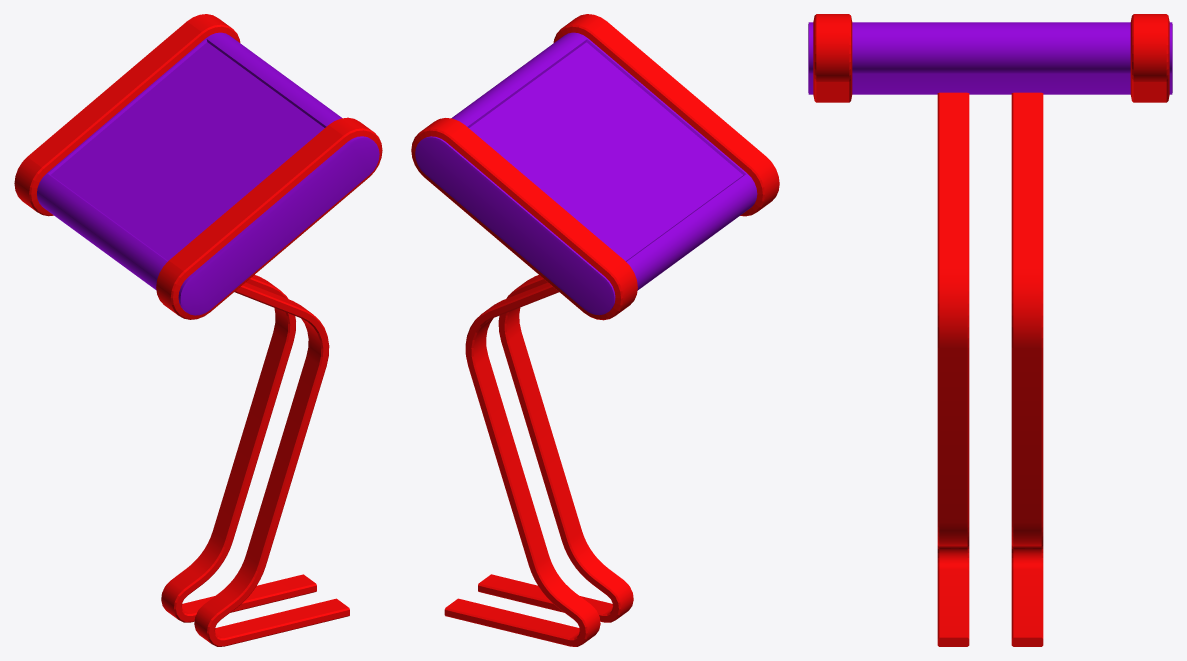
File: screenStand.FBX
3 views of the same model, side by side, from view 1: azimuth 30°, elevation 25°; view 2: azimuth 150°, elevation 25°; view 3: azimuth 270°, elevation 25° (orthographic). The views are drawn at different scales.
Visible parts, largest first — view 1: ScreenStand; view 2: ScreenStand; view 3: ScreenStand.
Boxes of the visible parts, x1,y1,x2,y2 form: ScreenStand: (14,14,382,646); ScreenStand: (411,14,779,646); ScreenStand: (808,14,1172,646).
Bounding box in the file's own units: 174 × 211 × 385.
